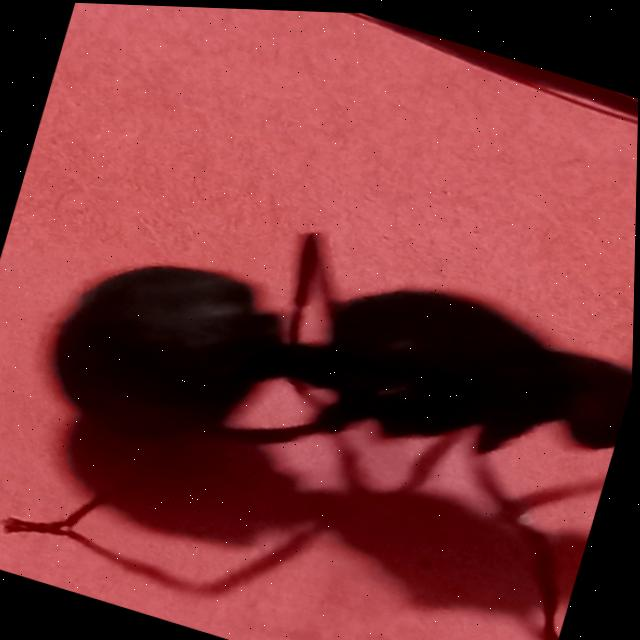Alive-Female-Dealate: (0, 159, 637, 640)
